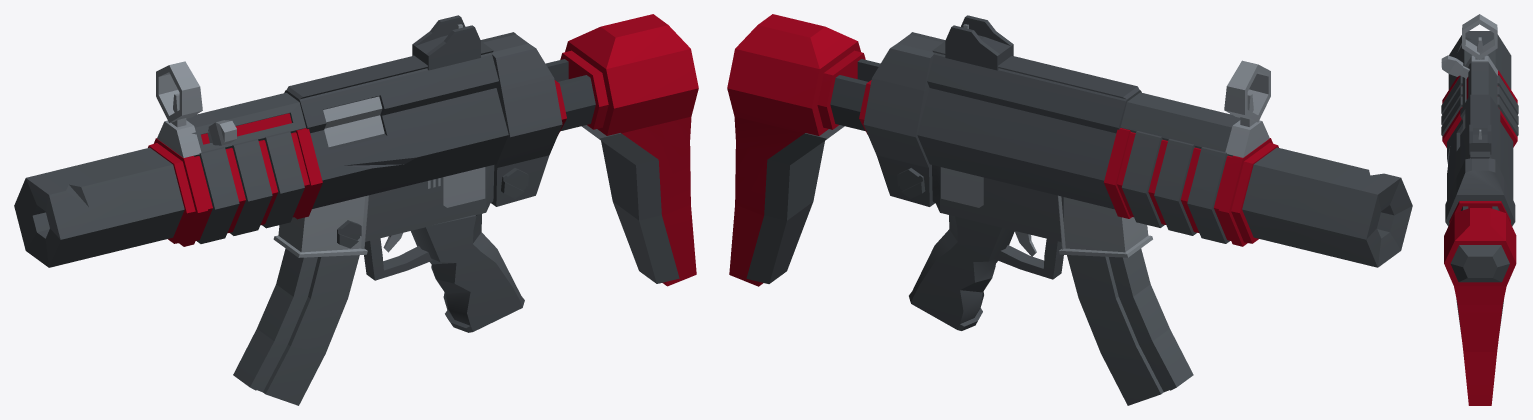
File: gun_6.fbx
3 views of the same model, side by side, from view 1: azimuth 30°, elevation 25°; view 2: azimuth 150°, elevation 25°; view 3: azimuth 270°, elevation 25° (orthographic). The views are drawn at different scales.
Visible parts, largest first — view 1: gun_6; view 2: gun_6; view 3: gun_6.
Part boxes in pixels (x1=…): gun_6: x1=14, y1=14, x2=698, y2=405; gun_6: x1=727, y1=14, x2=1412, y2=405; gun_6: x1=1441, y1=14, x2=1518, y2=405.
Bounding box in the file's own units: 66.48 × 35.57 × 10.17.
